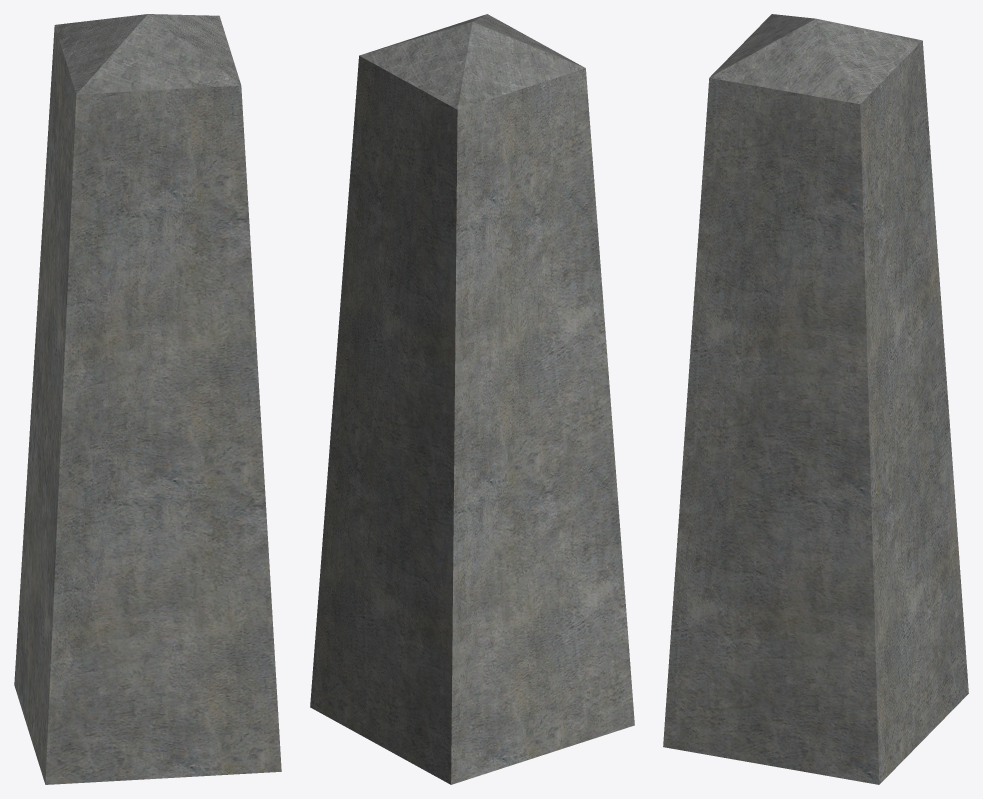
File: mun_all_column_med_impl_s01_l2.fbx
The picture shows the model from 3 angles, left to right: view 1: azimuth 30°, elevation 25°; view 2: azimuth 150°, elevation 25°; view 3: azimuth 270°, elevation 25°; orthographic projection. The views are drawn at different scales.
Visible parts, largest first — view 1: mesh_node; view 2: mesh_node; view 3: mesh_node.
Boxes of the visible parts, box(x1,y1,x2,y2) form: mesh_node: box(14, 14, 281, 784); mesh_node: box(310, 14, 634, 784); mesh_node: box(663, 14, 968, 784).
Bounding box in the file's own units: 2.57 × 6.5 × 2.57.
